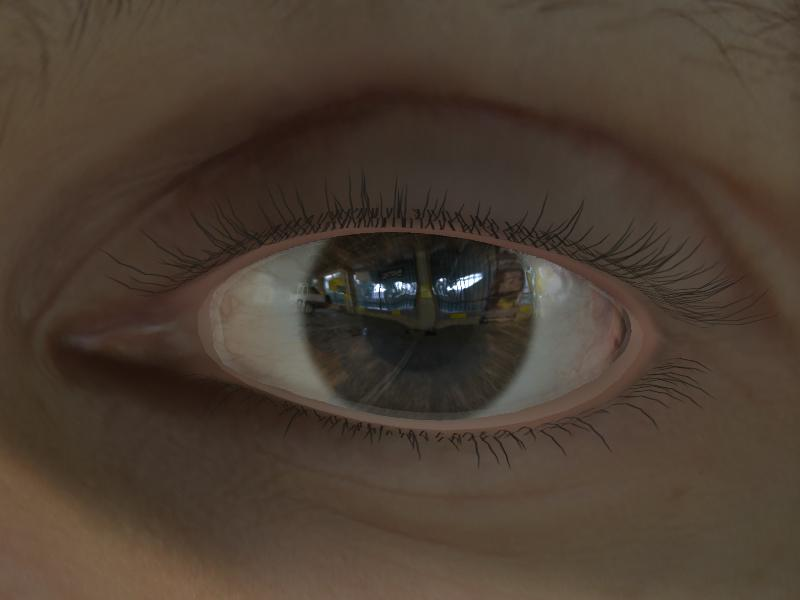eye: (299, 236, 541, 425)
